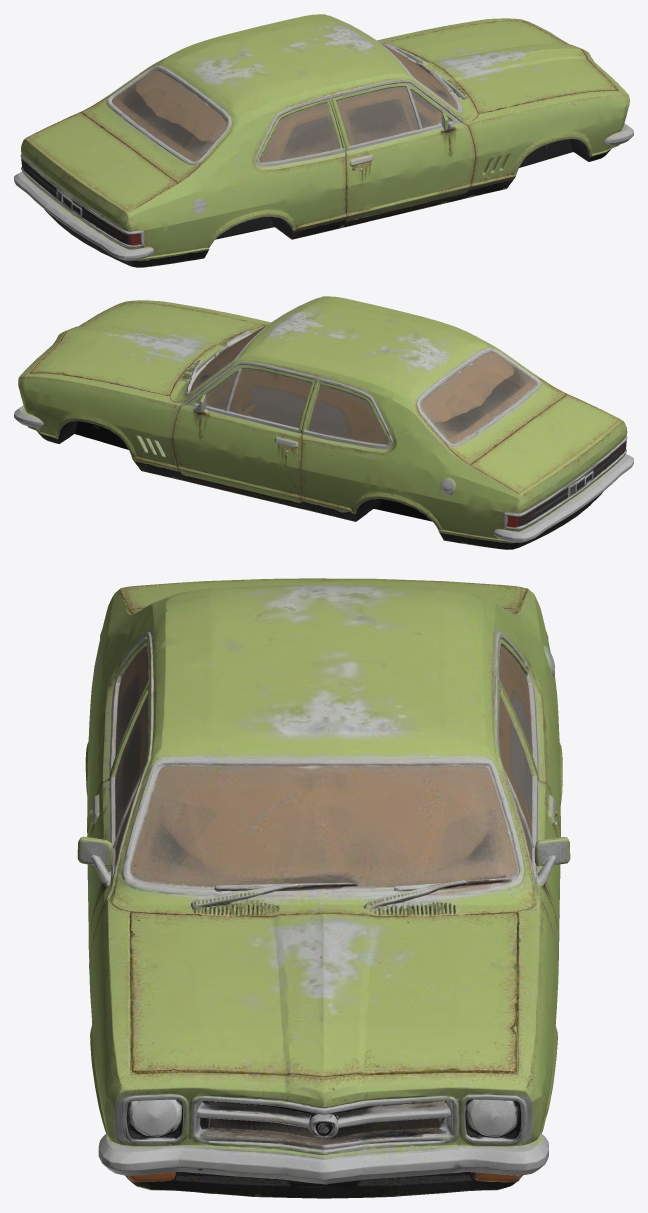
Rendered from lime_classic.glb.
3 renders of one model, top to bottom at view 1: azimuth 30°, elevation 25°; view 2: azimuth 150°, elevation 25°; view 3: azimuth 270°, elevation 25°, orthographic. The views are drawn at different scales.
Visible parts, largest first — view 1: lime_classic; view 2: lime_classic; view 3: lime_classic.
Part boxes in pixels (x1=…): lime_classic: x1=14, y1=14, x2=633, y2=267; lime_classic: x1=14, y1=296, x2=633, y2=549; lime_classic: x1=77, y1=578, x2=570, y2=1198.
Bounding box in the file's own units: 5 × 1.25 × 2.
1 material, 1 textured.
